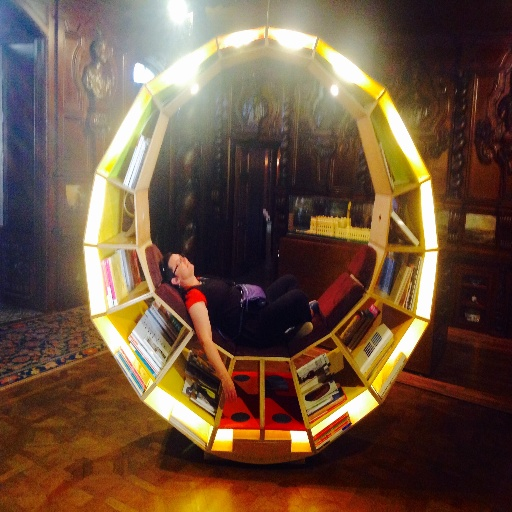hand: (220, 374, 235, 399)
